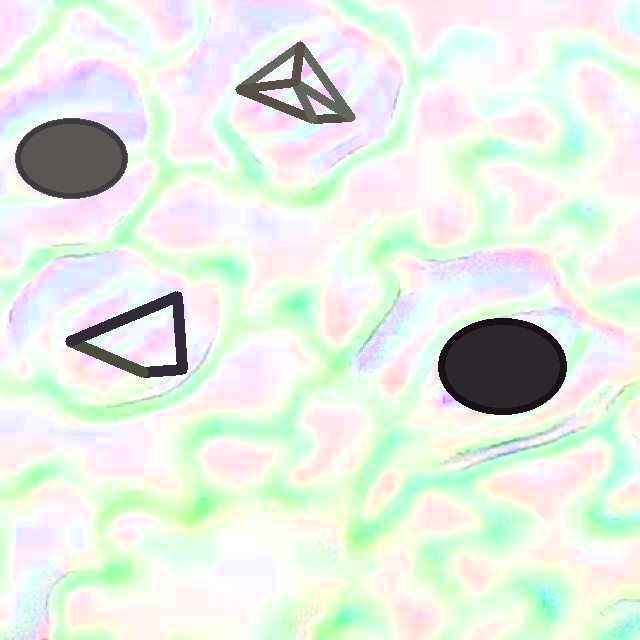open: (439, 319, 566, 414), (65, 292, 186, 377), (235, 41, 355, 123), (15, 118, 127, 197)
